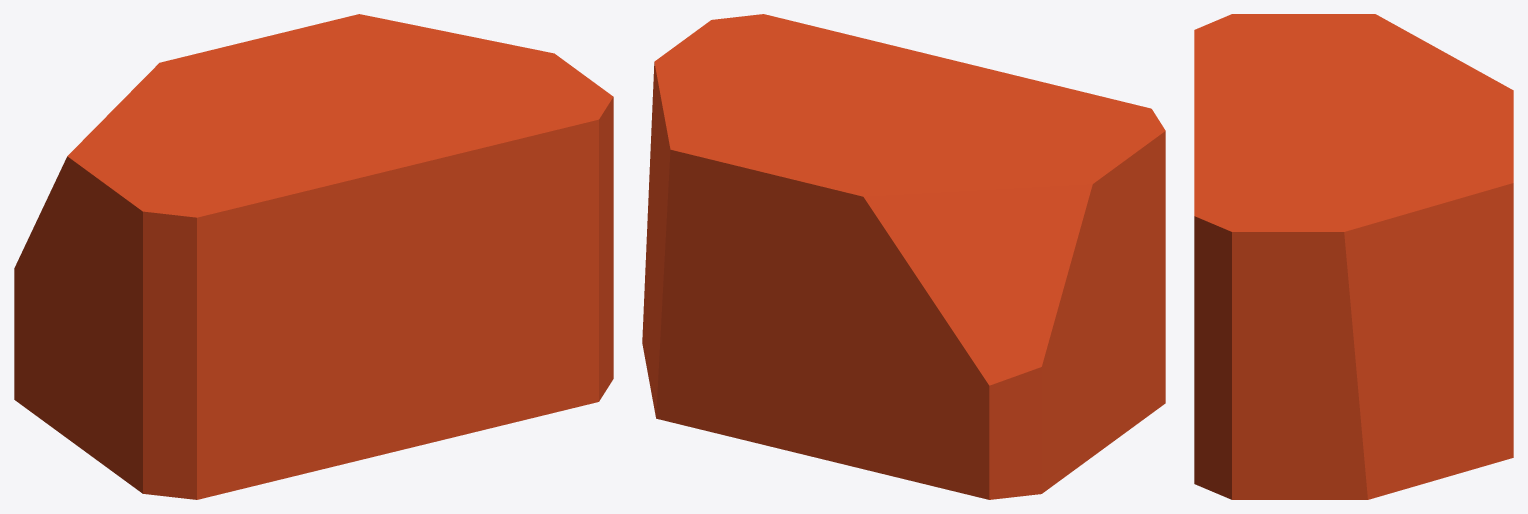
File: Pedra02.fbx
The picture shows the model from 3 angles, left to right: view 1: azimuth 30°, elevation 25°; view 2: azimuth 150°, elevation 25°; view 3: azimuth 270°, elevation 25°; orthographic projection. The views are drawn at different scales.
Parts seen in each view (by area): view 1: Cube.131; view 2: Cube.131; view 3: Cube.131.
Part boxes in pixels (box(x1,y1,x2,y2)): Cube.131: box(14, 14, 613, 499); Cube.131: box(642, 14, 1165, 499); Cube.131: box(1194, 14, 1513, 499).
Bounding box in the file's own units: 200 × 115 × 124.
